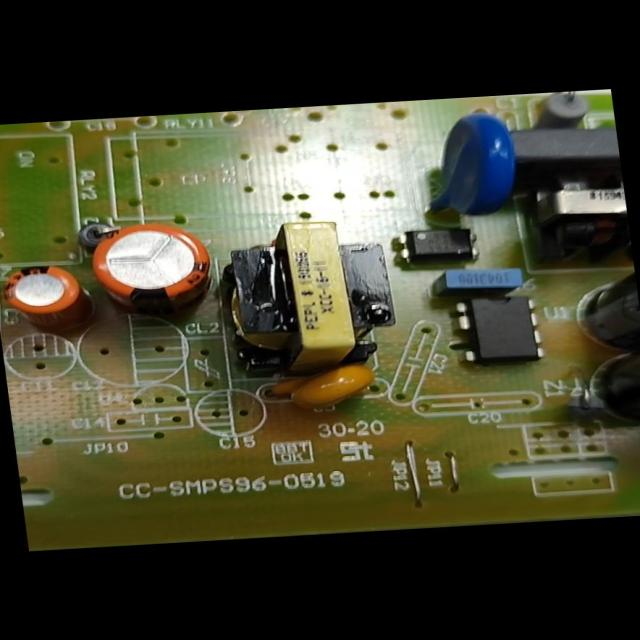Cap1: (78, 204, 221, 318)
Cap2: (0, 255, 102, 343)
Cap3: (557, 252, 639, 350)
Cap4: (558, 321, 639, 436)
MOSFET: (446, 287, 548, 375)
Mov: (411, 101, 532, 225)
Resistor: (530, 90, 599, 134)
Transformer: (202, 209, 410, 390), (514, 159, 633, 269)
